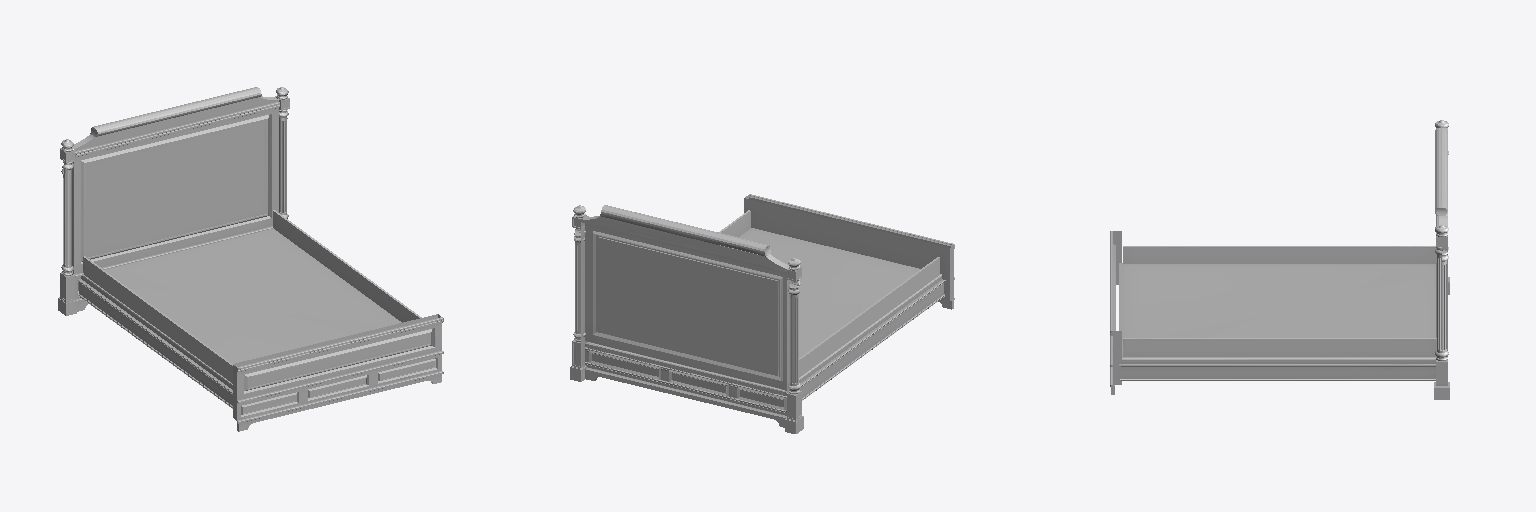
The picture shows the model from 3 angles: view 1: azimuth 30°, elevation 25°; view 2: azimuth 150°, elevation 25°; view 3: azimuth 270°, elevation 25°; orthographic projection.
Parts seen in each view (by area): view 1: solid_002, solid_001; view 2: solid_002, solid_001; view 3: solid_002, solid_001.
Boxes of the visible parts, <box> form: solid_002: <box>58,87,443,431</box>; solid_001: <box>83,210,421,383</box>; solid_002: <box>570,194,954,433</box>; solid_001: <box>719,210,939,389</box>; solid_002: <box>1110,120,1449,399</box>; solid_001: <box>1123,246,1436,356</box>.
Size of the model in its own units: 1.42 by 1.07 by 1.85.
Materials: 1 (1 with a texture image).